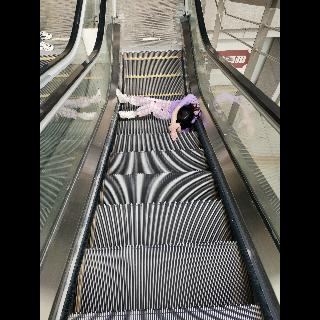anomaly: (112, 86, 204, 142)
